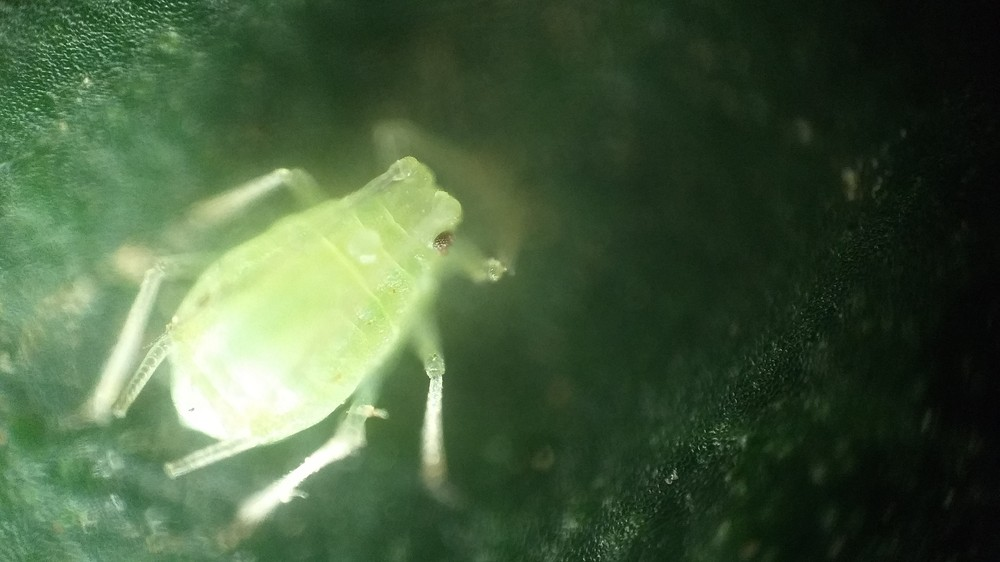Pulgon: (69, 104, 534, 526)
